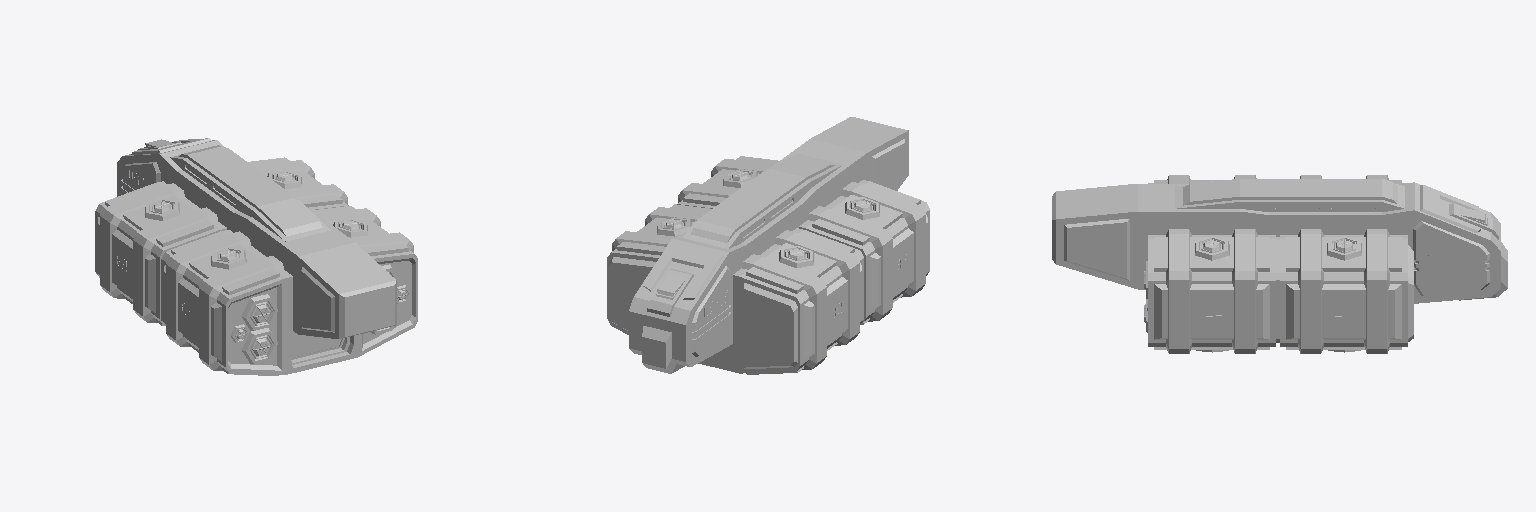
The model's file is Heavy DS.obj.
The picture shows the model from 3 angles: view 1: azimuth 30°, elevation 25°; view 2: azimuth 150°, elevation 25°; view 3: azimuth 270°, elevation 25°; orthographic projection.
Visible parts, largest first — view 1: HDS_Cube.002, Cube; view 2: HDS_Cube.002, Cube; view 3: HDS_Cube.002, Cube.
Boxes of the visible parts, x1=… form: HDS_Cube.002: x1=95, y1=138, x2=417, y2=375; Cube: x1=98, y1=139, x2=416, y2=374; HDS_Cube.002: x1=607, y1=117, x2=929, y2=374; Cube: x1=607, y1=141, x2=928, y2=374; HDS_Cube.002: x1=1052, y1=175, x2=1507, y2=353; Cube: x1=1054, y1=175, x2=1507, y2=353.
Bounding box in the file's own units: 5.71 × 3.65 × 11.